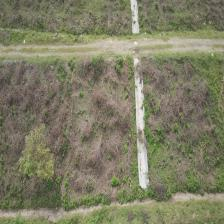slope drain: (134, 53, 150, 191)
vegetation: (21, 122, 56, 181)
